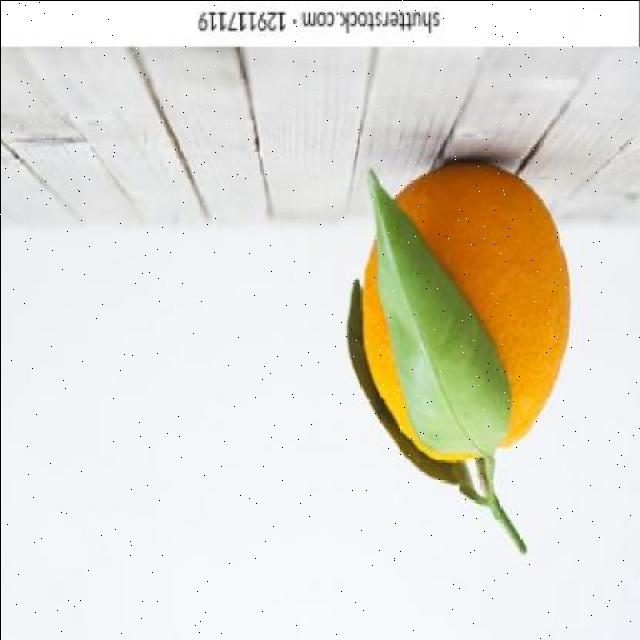Orange: (357, 160, 572, 466)
